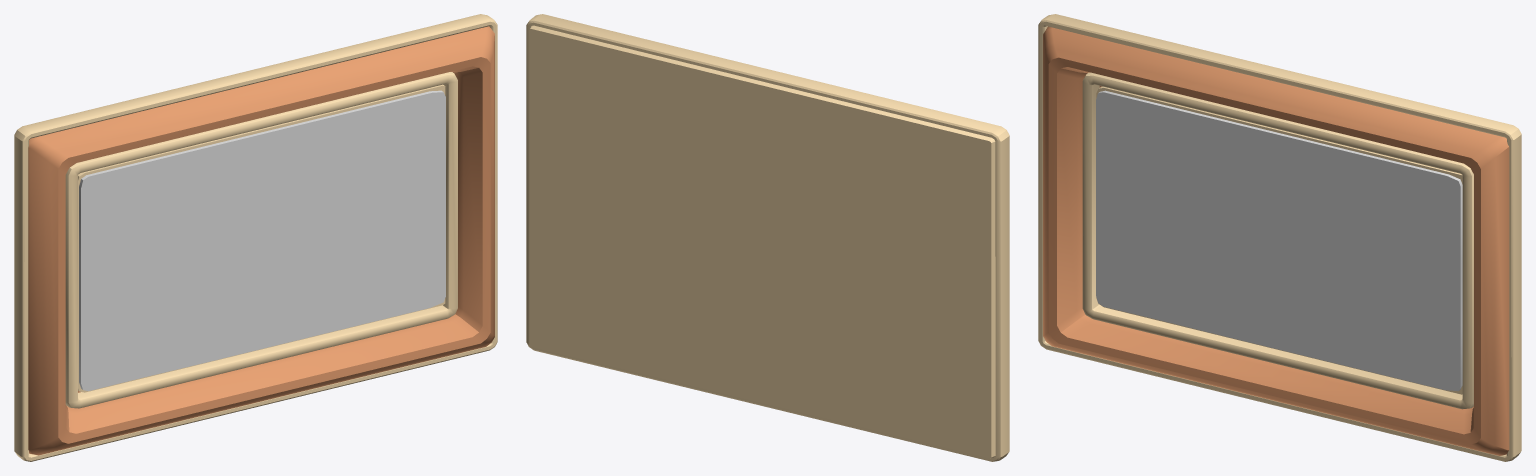
The model's file is Photo_Frame.fbx.
3 renders of one model, left to right at view 1: azimuth 30°, elevation 25°; view 2: azimuth 150°, elevation 25°; view 3: azimuth 330°, elevation 25°, orthographic.
Visible parts, largest first — view 1: photo_frame; view 2: photo_frame; view 3: photo_frame.
Boxes of the visible parts, x1,y1,x2,y2 form: photo_frame: (14,14,497,461); photo_frame: (526,14,1009,461); photo_frame: (1038,14,1521,461).
Size of the model in its own units: 195 by 130 by 17.41.
